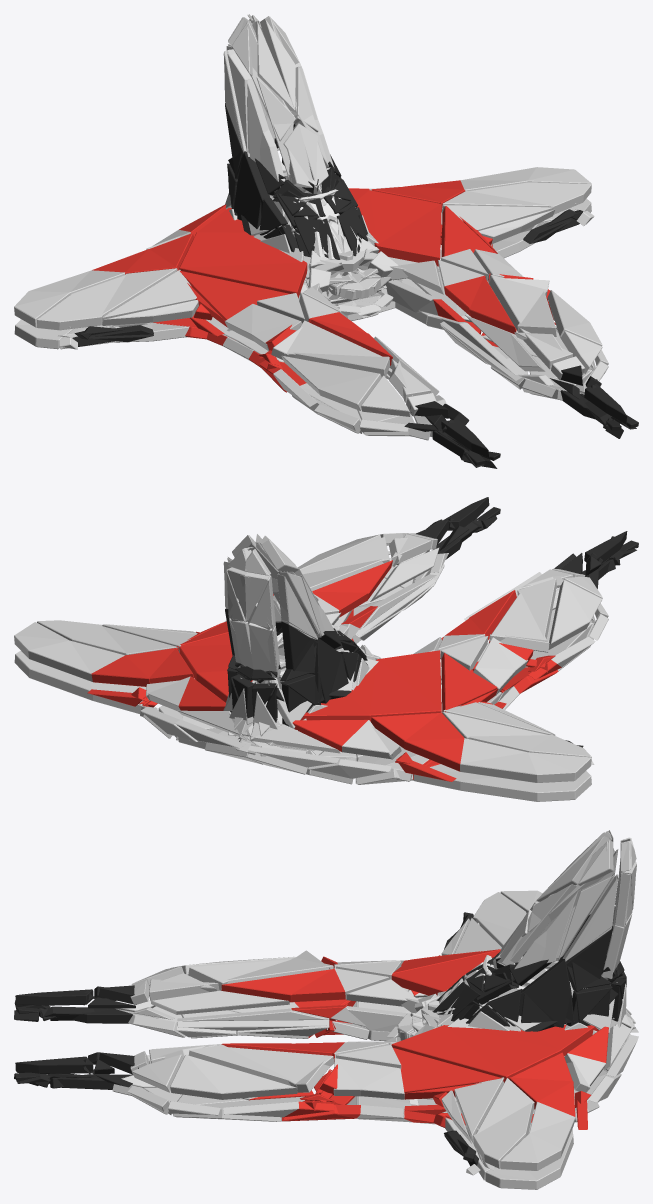
File: spaceshipGenerativeblend.fbx
3 views of the same model, one above another, from view 1: azimuth 30°, elevation 25°; view 2: azimuth 150°, elevation 25°; view 3: azimuth 270°, elevation 25° (orthographic).
Parts seen in each view (by area): view 1: Spaceship1; view 2: Spaceship1; view 3: Spaceship1.
Boxes of the visible parts, box(x1,y1,x2,y2) form: Spaceship1: box(14, 14, 638, 468); Spaceship1: box(14, 497, 638, 801); Spaceship1: box(14, 830, 638, 1189).
Size of the model in its own units: 1258 by 517 by 1221.
